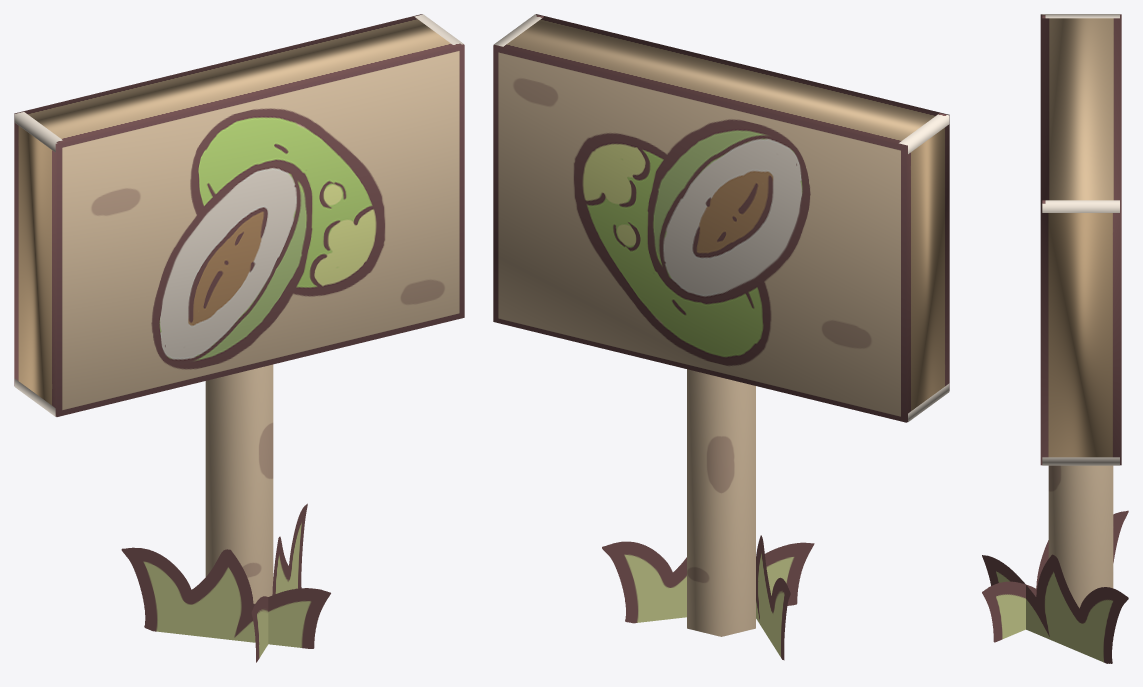
Rendered from Mesh_Home_BH_Farm_Brand_03_SM.fbx.
The picture shows the model from 3 angles, left to right: view 1: azimuth 30°, elevation 25°; view 2: azimuth 150°, elevation 25°; view 3: azimuth 270°, elevation 25°; orthographic projection. The views are drawn at different scales.
Visible parts, largest first — view 1: Mesh_Home_BH_Farm_Brand_03, Mesh_Home_BH_Farm_Brand_03_P; view 2: Mesh_Home_BH_Farm_Brand_03, Mesh_Home_BH_Farm_Brand_03_P; view 3: Mesh_Home_BH_Farm_Brand_03, Mesh_Home_BH_Farm_Brand_03_P.
Boxes of the visible parts, box(x1,y1,x2,y2) form: Mesh_Home_BH_Farm_Brand_03: box(14, 14, 464, 603); Mesh_Home_BH_Farm_Brand_03_P: box(121, 503, 330, 662); Mesh_Home_BH_Farm_Brand_03: box(493, 14, 949, 636); Mesh_Home_BH_Farm_Brand_03_P: box(602, 535, 814, 660); Mesh_Home_BH_Farm_Brand_03: box(1040, 14, 1121, 608); Mesh_Home_BH_Farm_Brand_03_P: box(982, 510, 1128, 663).
Bounding box in the file's own units: 45.19 × 57.49 × 15.04.
